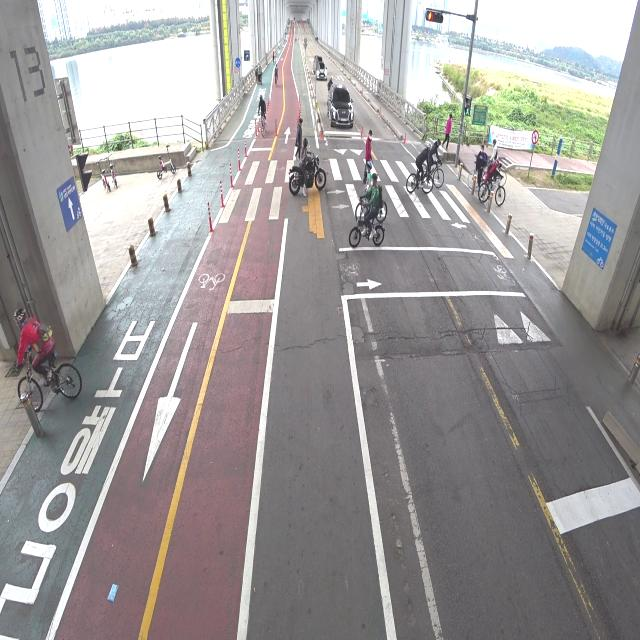Car: (327, 84, 355, 132), (314, 62, 329, 80)
Motorcycle: (286, 135, 324, 194), (326, 73, 333, 95)
